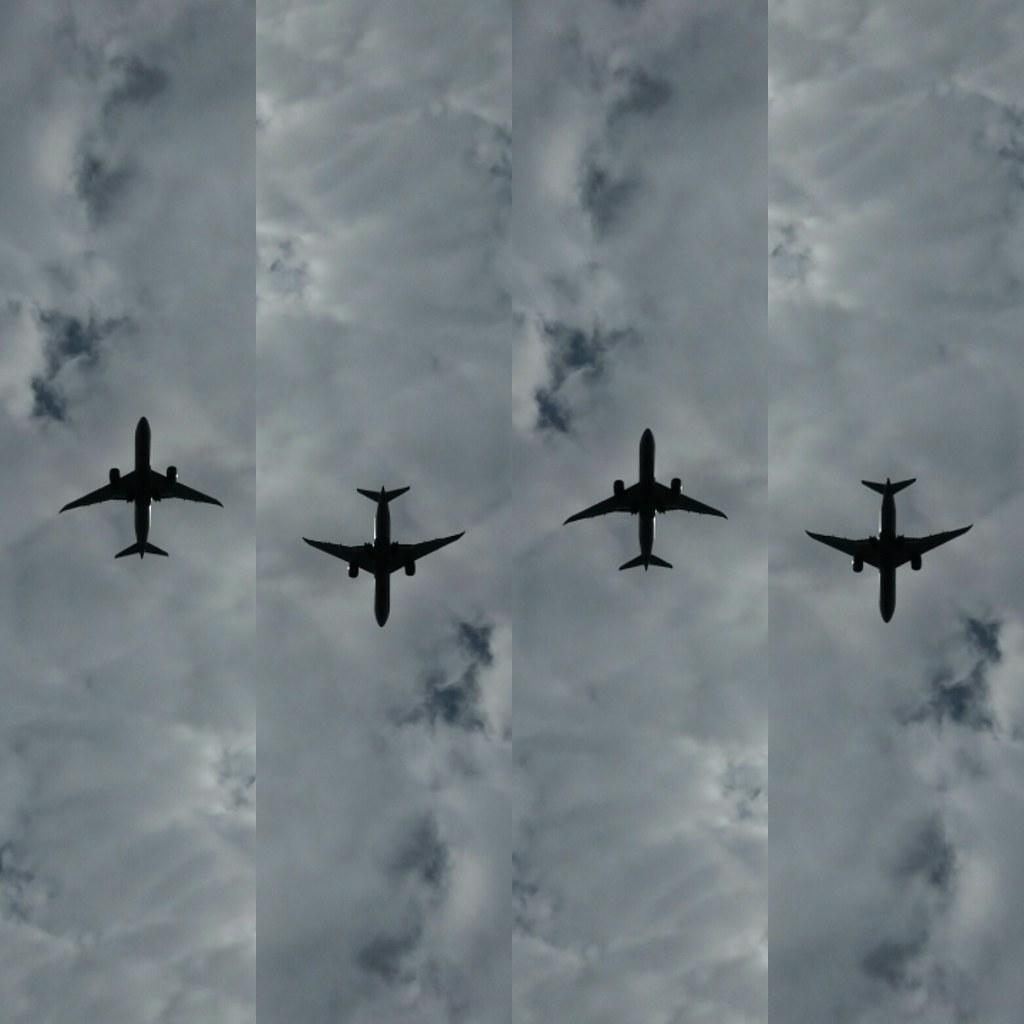plane: (805, 475, 974, 623), (58, 415, 225, 561), (562, 428, 729, 572), (302, 483, 466, 628)
